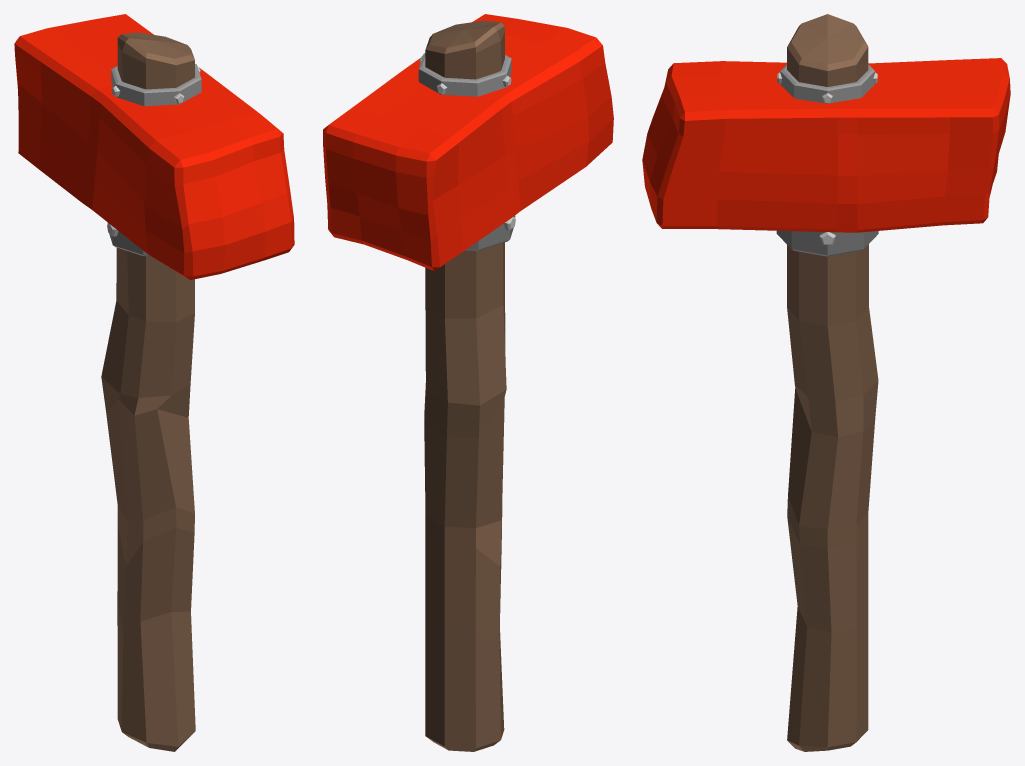
File: Hammer1_Red.fbx
The picture shows the model from 3 angles, left to right: view 1: azimuth 30°, elevation 25°; view 2: azimuth 150°, elevation 25°; view 3: azimuth 270°, elevation 25°; orthographic projection. The views are drawn at different scales.
Visible parts, largest first — view 1: Hammer1_Red; view 2: Hammer1_Red; view 3: Hammer1_Red.
Boxes of the visible parts, x1,y1,x2,y2 form: Hammer1_Red: (14,14,294,751); Hammer1_Red: (323,14,613,751); Hammer1_Red: (642,14,1010,751).
Bounding box in the file's own units: 12.57 × 64.18 × 29.77.
